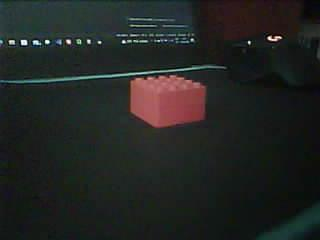lego: (129, 74, 206, 127)
